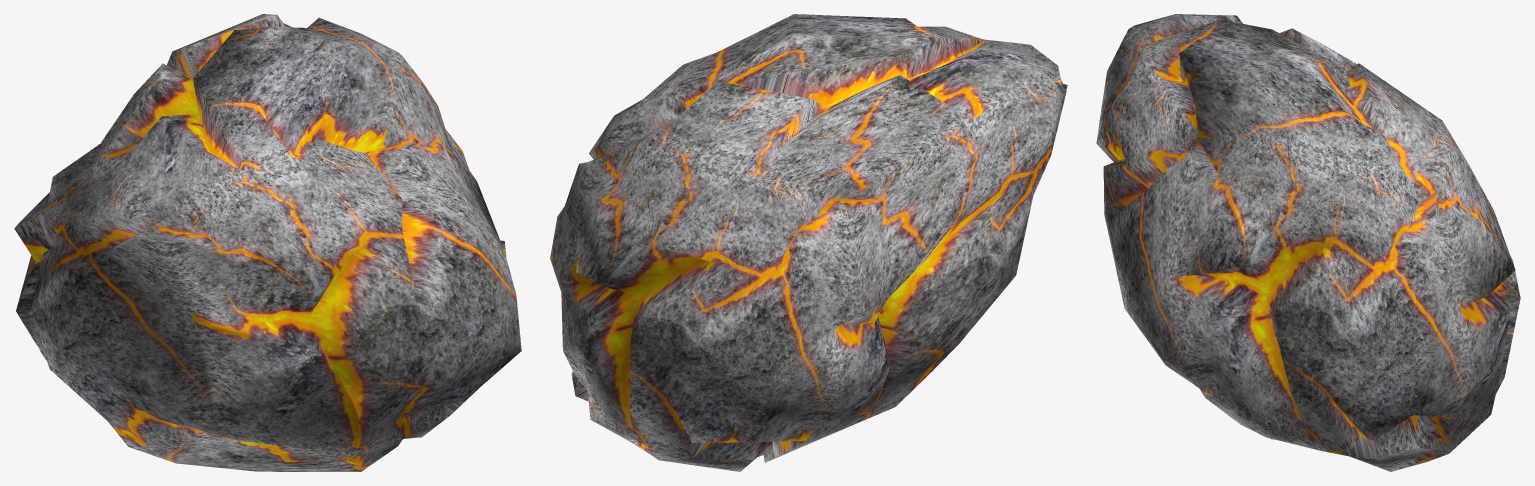
The model's file is Asteroid_07_L2.FBX.
3 views of the same model, side by side, from view 1: azimuth 30°, elevation 25°; view 2: azimuth 150°, elevation 25°; view 3: azimuth 270°, elevation 25° (orthographic). The views are drawn at different scales.
Visible parts, largest first — view 1: Asteroid; view 2: Asteroid; view 3: Asteroid.
Boxes of the visible parts, box(x1,y1,x2,y2) form: Asteroid: box(14, 14, 521, 471); Asteroid: box(550, 14, 1067, 471); Asteroid: box(1096, 14, 1520, 471).
Size of the model in its own units: 2.93 by 2.68 by 2.77.
